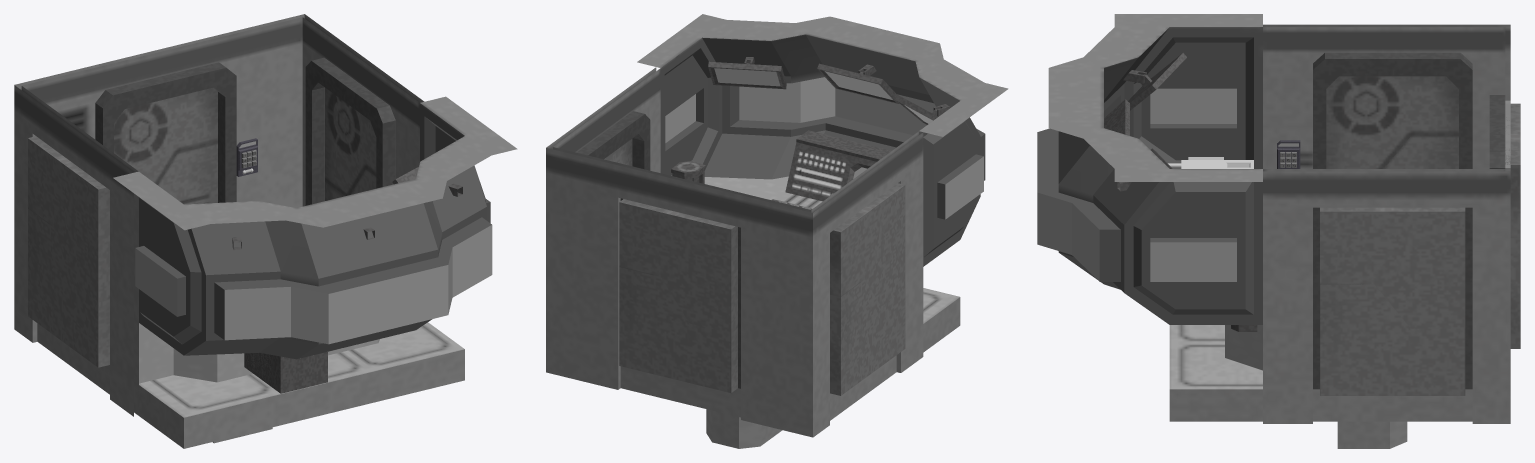
Rendered from fullMap_02.fbx.
3 renders of one model, left to right at view 1: azimuth 30°, elevation 25°; view 2: azimuth 150°, elevation 25°; view 3: azimuth 270°, elevation 25°, orthographic. The views are drawn at different scales.
Parts seen in each view (by area): view 1: cabinWallFrame, cabinWallBack, floor, doorTop (×3), cabinWallWindow, doorFrame (×2), doorBottom (×3), storageCase; view 2: cabinWallBack, cabinWallFrame, doorTop (×2), doorBottom (×2), cabinWallWindow, floor, computerFrame, doorFrame (×2), monitorFrame (×2), monitorScreen (×2), chargeStation; view 3: cabinWallFrame, cabinWallBack, doorTop (×3), doorBottom (×3), floor, doorFrame (×3), cabinWallWindow, monitorFrame (×2).
Part boxes in pixels (x1,y1,x2,y2): cabinWallFrame: (113,96,517,383); cabinWallBack: (14,14,424,416); floor: (37,322,464,448); doorTop (×3): (28,87,376,302); cabinWallWindow: (135,225,492,344); doorFrame (×2): (95,57,395,205); doorBottom (×3): (28,143,376,367); storageCase: (244,352,327,393); cabinWallBack: (546,67,923,437); cabinWallFrame: (637,14,1008,266); doorTop (×2): (619,183,905,333); doorBottom (×2): (619,267,905,395); cabinWallWindow: (665,77,983,219); floor: (620,288,960,448); computerFrame: (785,130,891,201); doorFrame (×2): (576,111,740,388); monitorFrame (×2): (708,61,899,103); monitorScreen (×2): (714,68,892,99); chargeStation: (671,161,705,183); cabinWallFrame: (1037,14,1262,370); cabinWallBack: (1263,24,1510,423); doorTop (×3): (1320,76,1520,328); doorBottom (×3): (1320,136,1520,395); floor: (1169,325,1472,448); doorFrame (×3): (1313,52,1505,389); cabinWallWindow: (1037,88,1236,281); monitorFrame (×2): (1104,53,1186,135).
Size of the model in its own units: 45.42 by 42.38 by 55.21.
